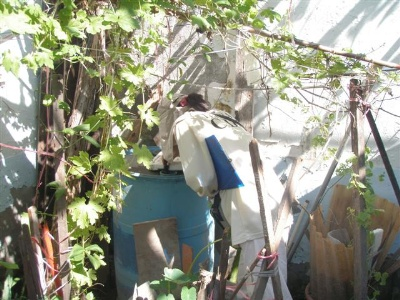bucket: (112, 147, 213, 300)
